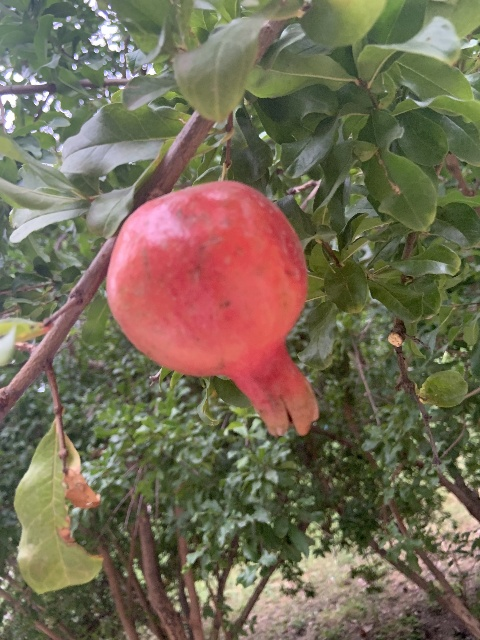ripe: (105, 179, 319, 436)
